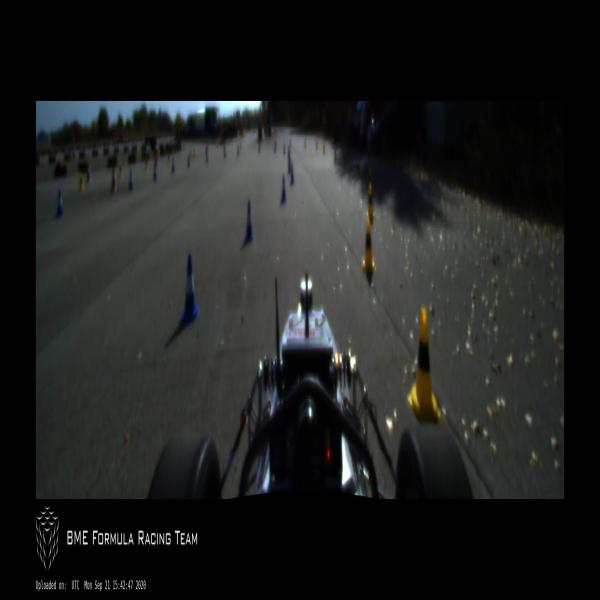blue_cone: (179, 254, 200, 326), (243, 200, 254, 241), (56, 189, 64, 218), (280, 174, 286, 204), (128, 170, 134, 191), (290, 164, 294, 184), (288, 157, 291, 175), (154, 164, 157, 180), (187, 155, 190, 167), (283, 144, 286, 154), (223, 148, 226, 158), (172, 159, 174, 172), (274, 142, 276, 153), (237, 145, 239, 156), (258, 142, 260, 152), (206, 152, 208, 162), (288, 149, 290, 157)
unknown_cone: (110, 166, 118, 194), (87, 159, 92, 182), (193, 146, 195, 158), (217, 137, 219, 148)
yellow_cone: (408, 306, 442, 424), (361, 217, 376, 272), (366, 183, 375, 218), (78, 172, 84, 192), (368, 169, 372, 194), (356, 159, 360, 179), (118, 162, 122, 177), (334, 148, 337, 161), (145, 157, 148, 170), (167, 150, 170, 163), (343, 154, 346, 166), (190, 148, 192, 159), (323, 143, 325, 153), (183, 141, 185, 151), (316, 140, 318, 148), (304, 140, 306, 148), (290, 140, 292, 146), (240, 142, 241, 149)
